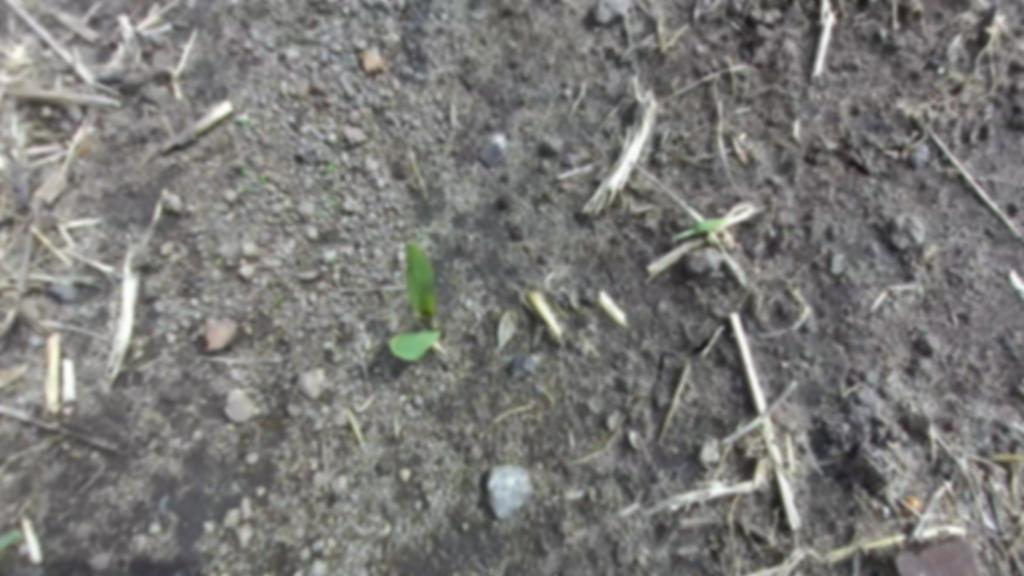BroWeed: (670, 213, 727, 245), (489, 306, 523, 357), (0, 524, 26, 555), (625, 425, 647, 452), (904, 493, 926, 515), (990, 452, 1022, 464), (233, 111, 251, 131), (41, 435, 63, 444), (249, 175, 264, 188), (935, 65, 946, 77), (324, 161, 336, 172), (258, 171, 268, 184), (241, 170, 255, 176), (216, 256, 222, 264)
Maize: (387, 239, 455, 365)
